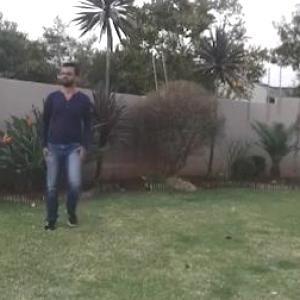follow: (31, 45, 101, 257)
